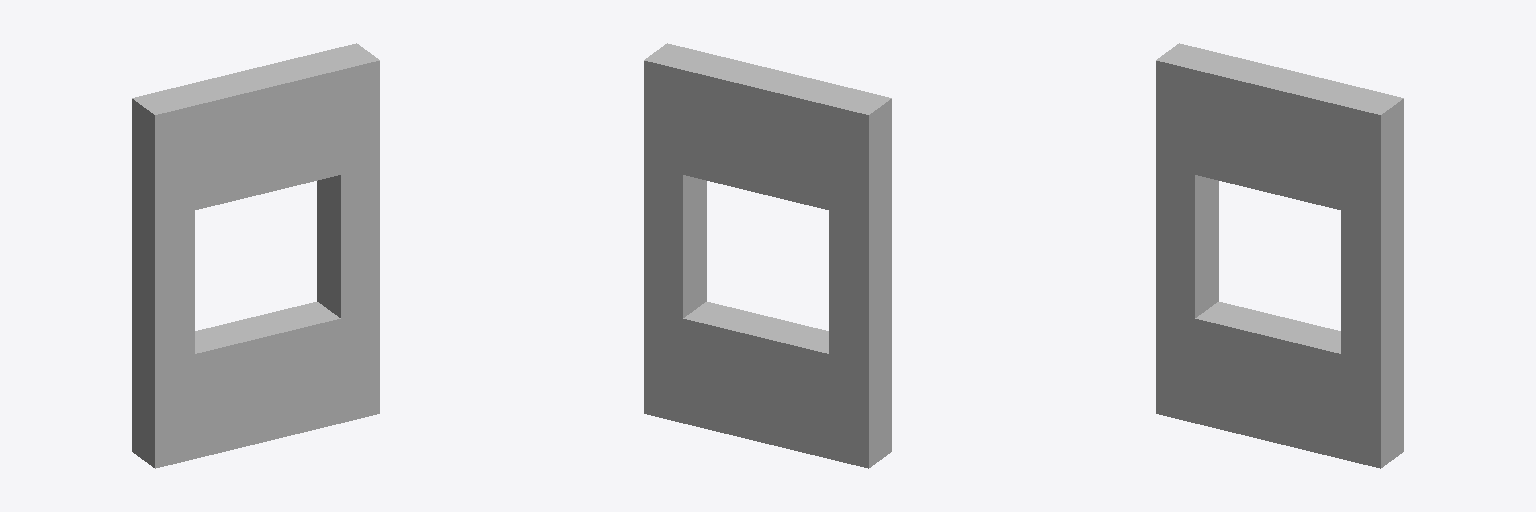
File: factory_square_hole_32mm_subdiv_3x.obj
3 renders of one model, left to right at view 1: azimuth 30°, elevation 25°; view 2: azimuth 150°, elevation 25°; view 3: azimuth 330°, elevation 25°, orthographic.
Bounding box in the file's own units: 0.05 × 0.075 × 0.009.